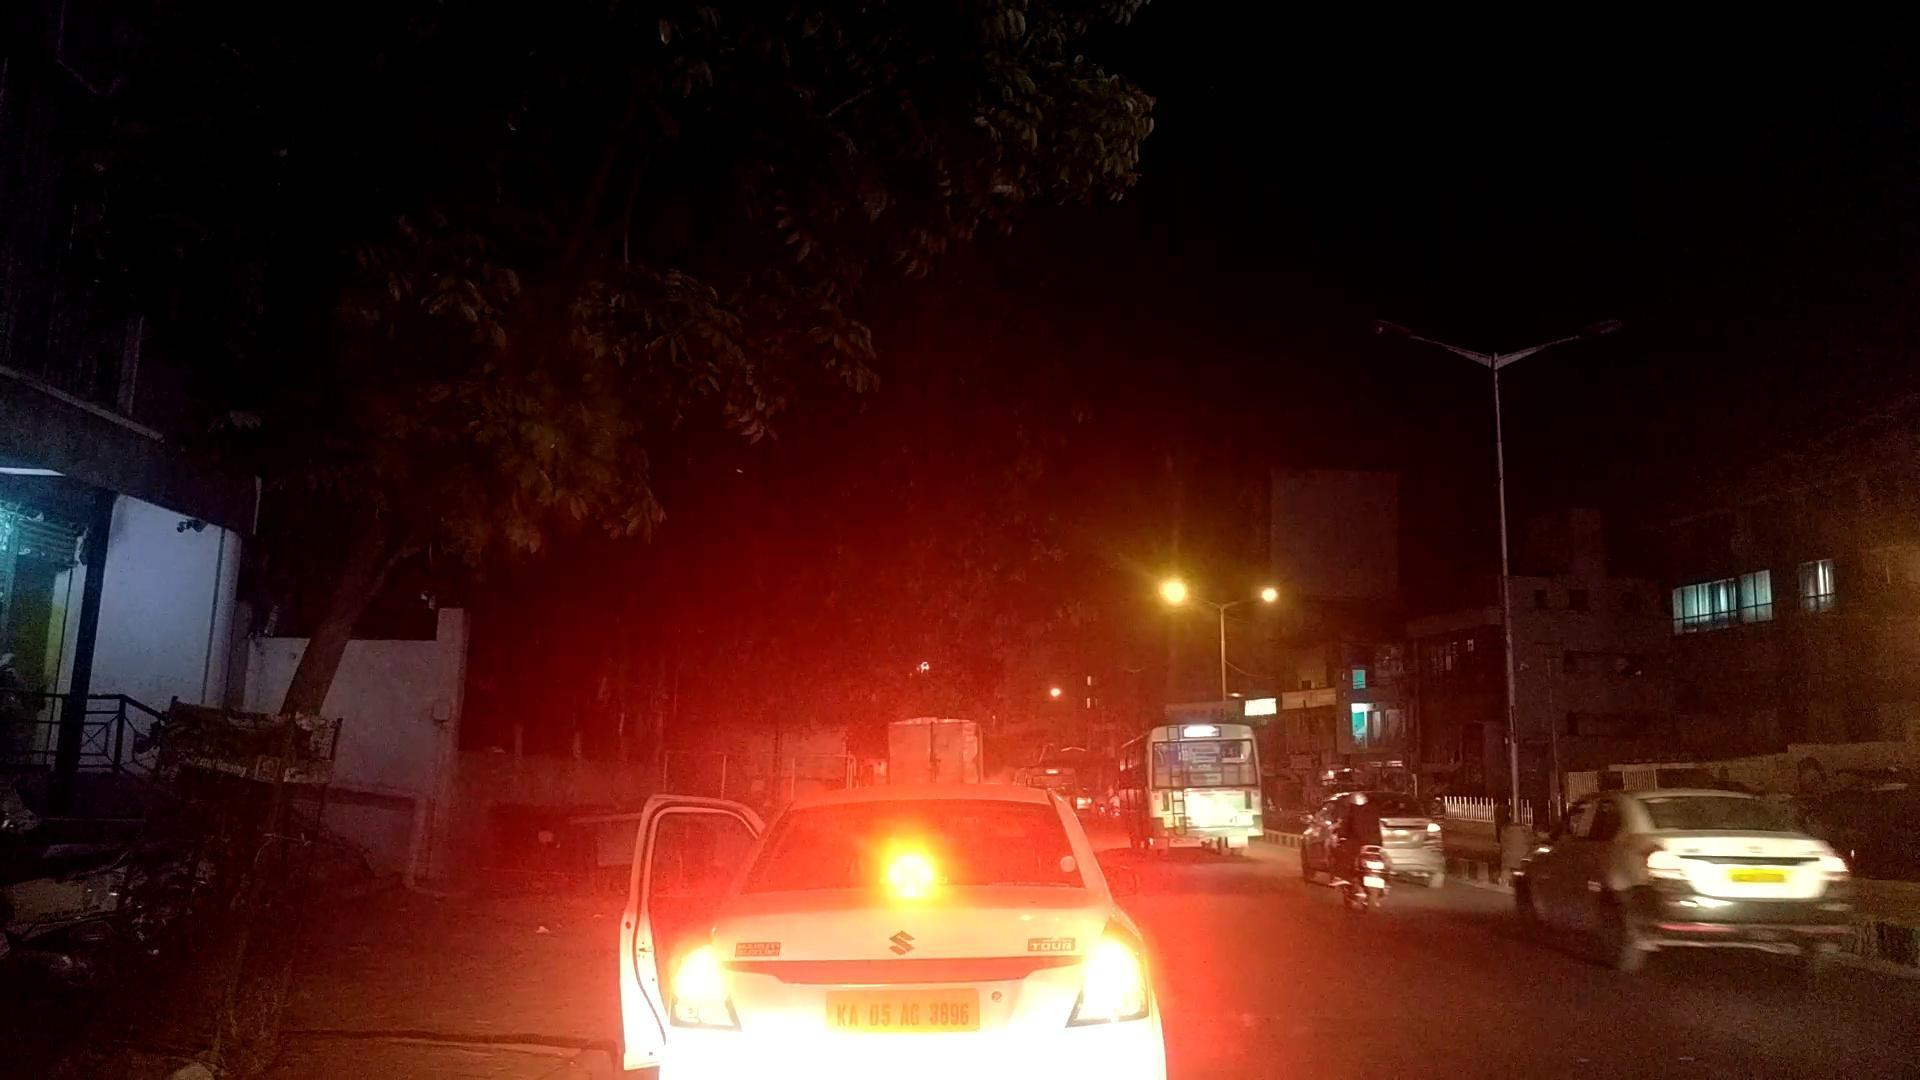on: (1120, 522, 1495, 1075)
